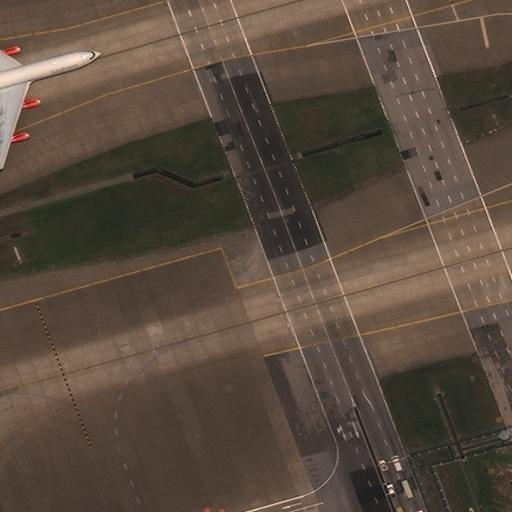Large Civil Transport: (0, 22, 99, 169)
